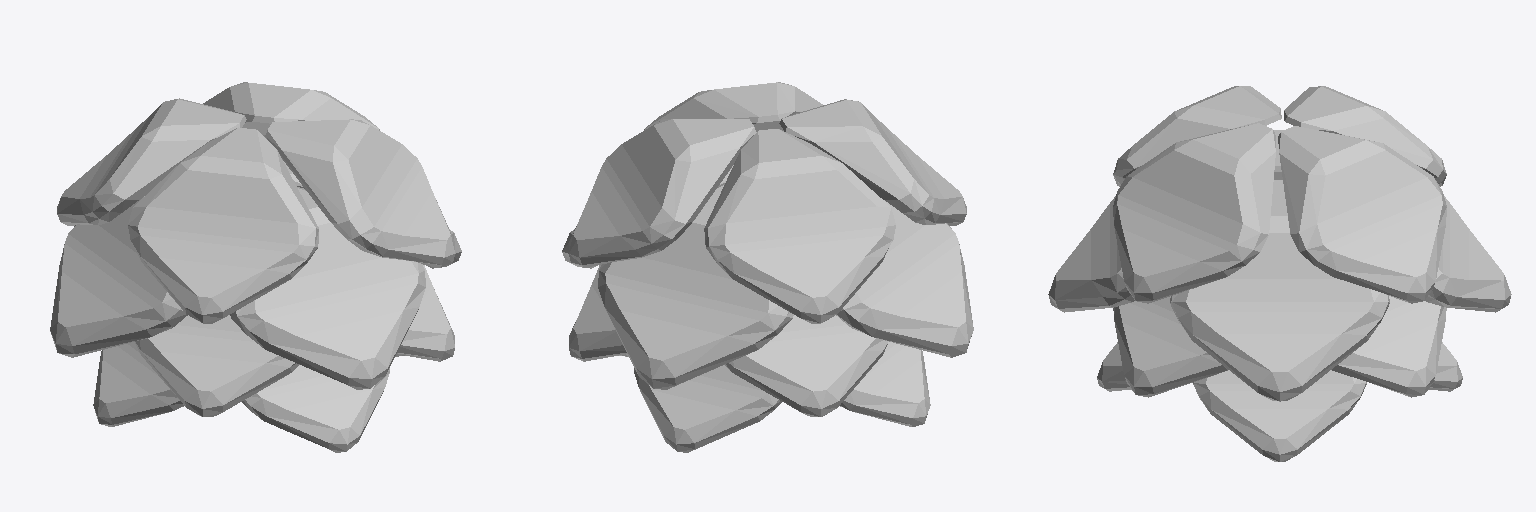
The model's file is Bush.obj.
3 views of the same model, side by side, from view 1: azimuth 30°, elevation 25°; view 2: azimuth 150°, elevation 25°; view 3: azimuth 270°, elevation 25° (orthographic).
Parts seen in each view (by area): view 1: Bush_Cube.595; view 2: Bush_Cube.595; view 3: Bush_Cube.595.
Boxes of the visible parts, box(x1,y1,x2,y2) form: Bush_Cube.595: box(50, 82, 461, 452); Bush_Cube.595: box(562, 82, 973, 452); Bush_Cube.595: box(1048, 86, 1511, 461).
Size of the model in its own units: 3.09 by 1.96 by 3.09.